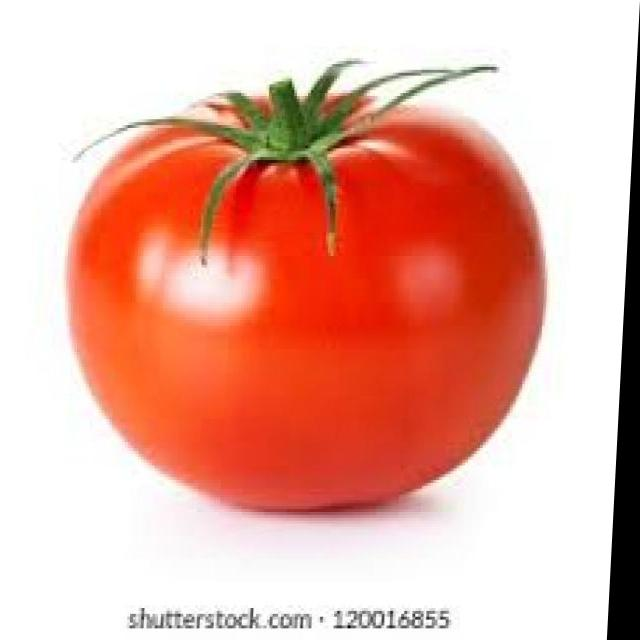kirmizi: (28, 34, 577, 540)
